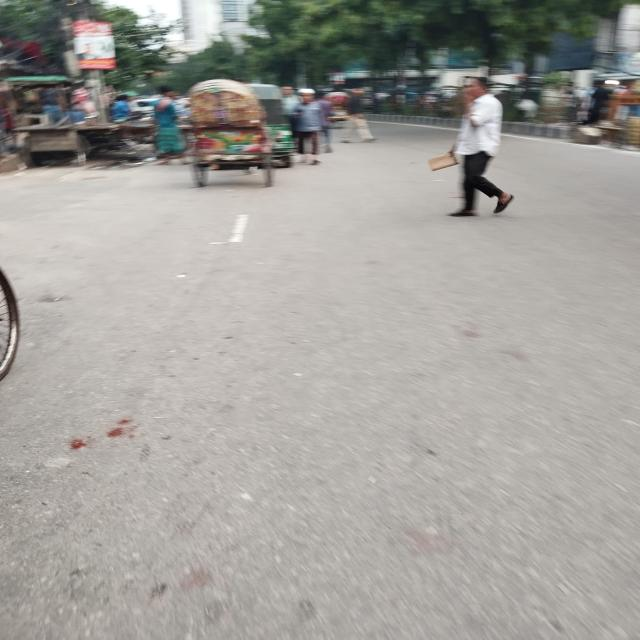person: (449, 77, 514, 217), (154, 87, 186, 164), (292, 89, 323, 165)
